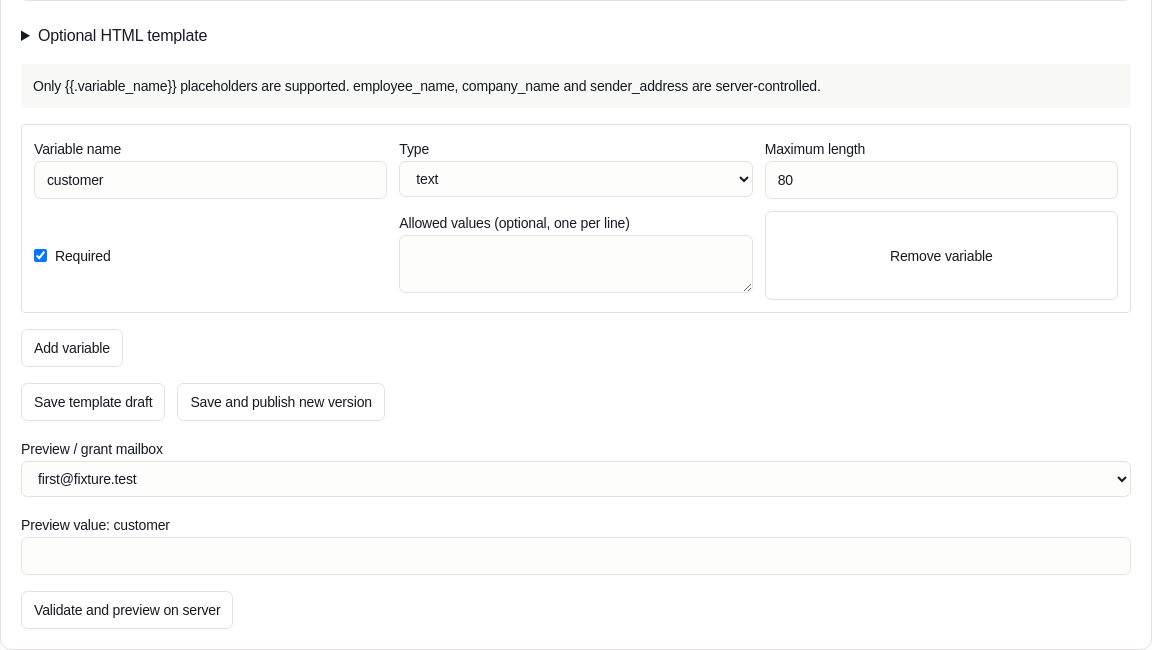
it: hides a completed preview when the session changes and disables its old editor
This screenshot has width=1152, height=650.
(page scrolled)
Type "Alice" into the field labelled "Preview value: customer".
click(576, 556); type("Alice")  # box [21,537,1131,575]
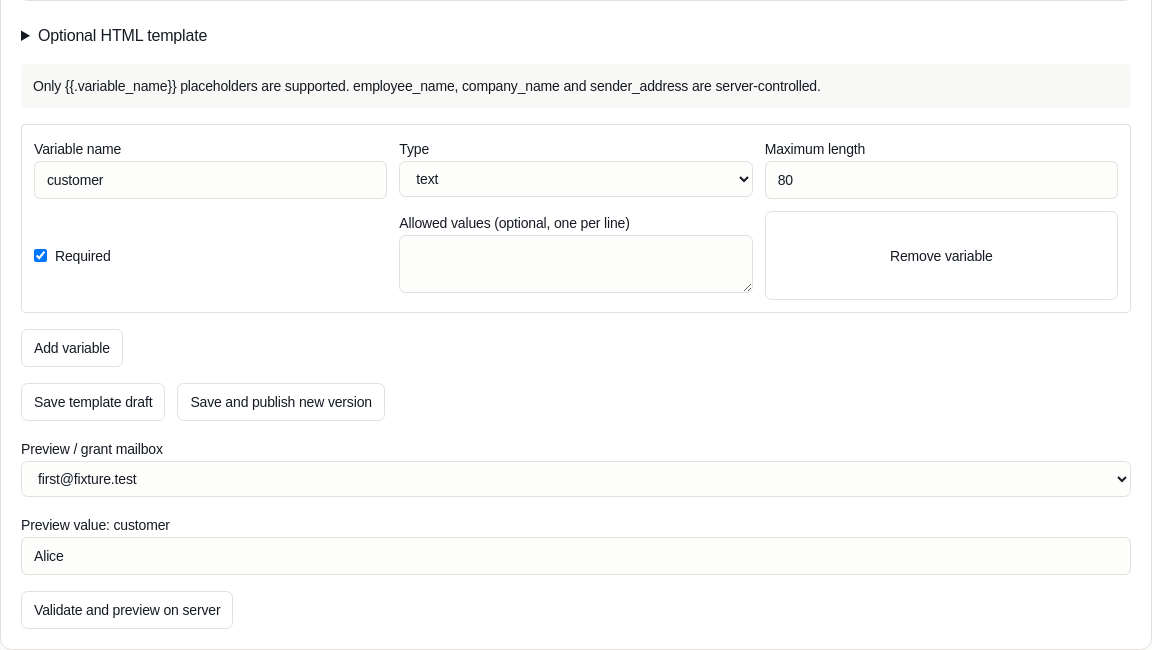
Click the button "Validate and preview on server".
click(127, 610)  # box [21,591,233,629]
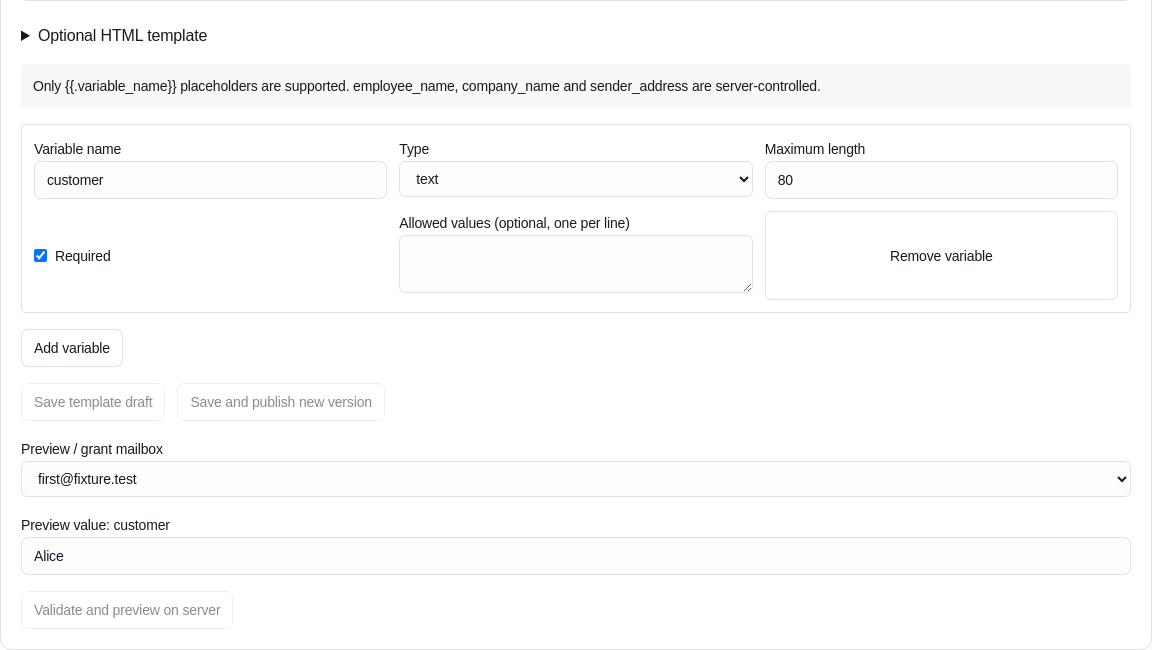
Expected: the button "Validate and preview on server" is disabled, [21,591,233,629]
